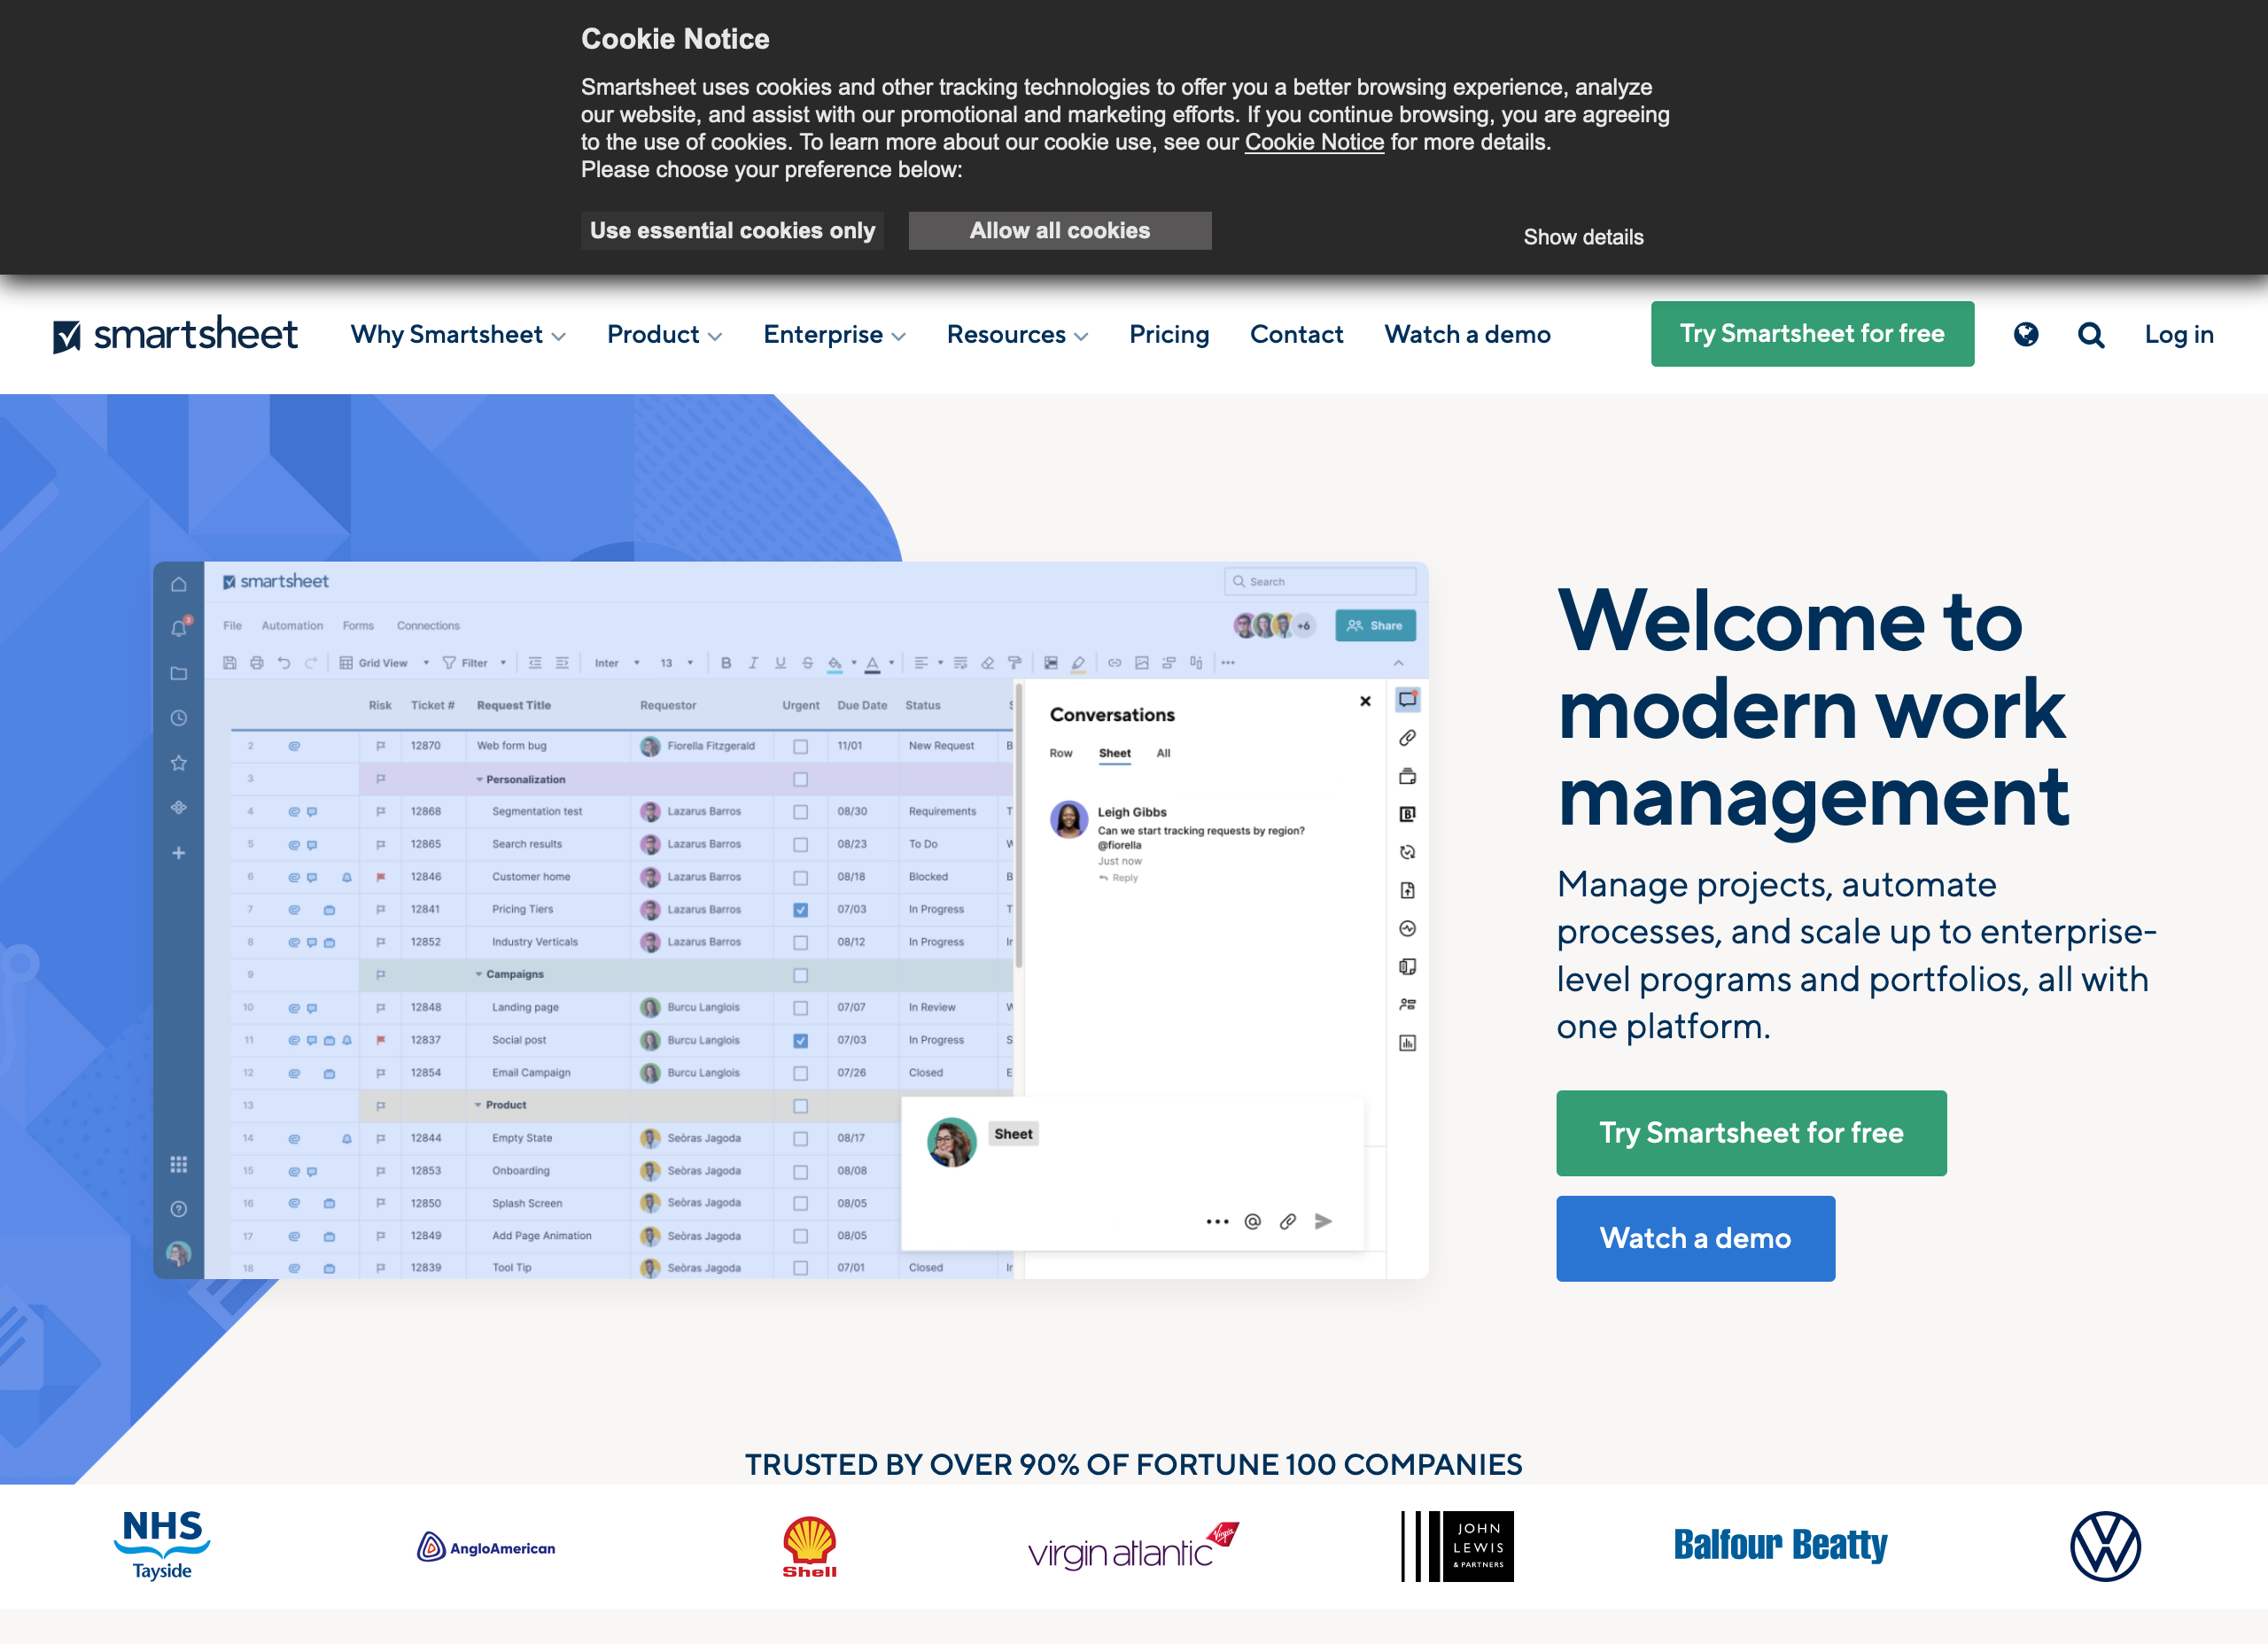Login: (2129, 303, 2227, 361)
